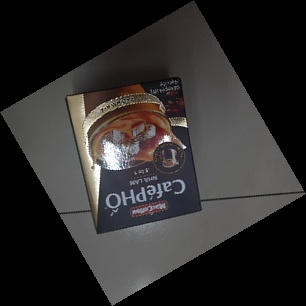CF pho: (60, 77, 204, 236)
